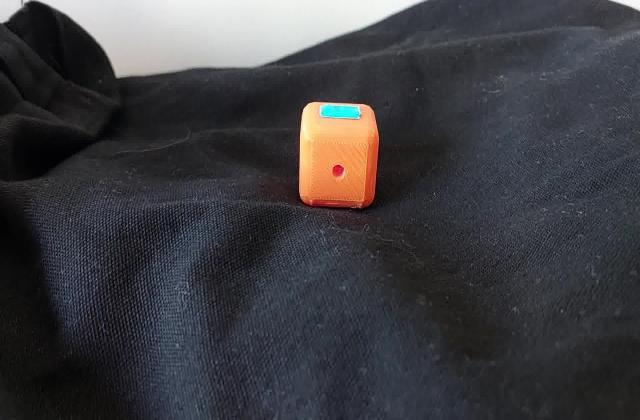blue: (326, 106, 358, 117)
cube: (294, 100, 382, 212)
